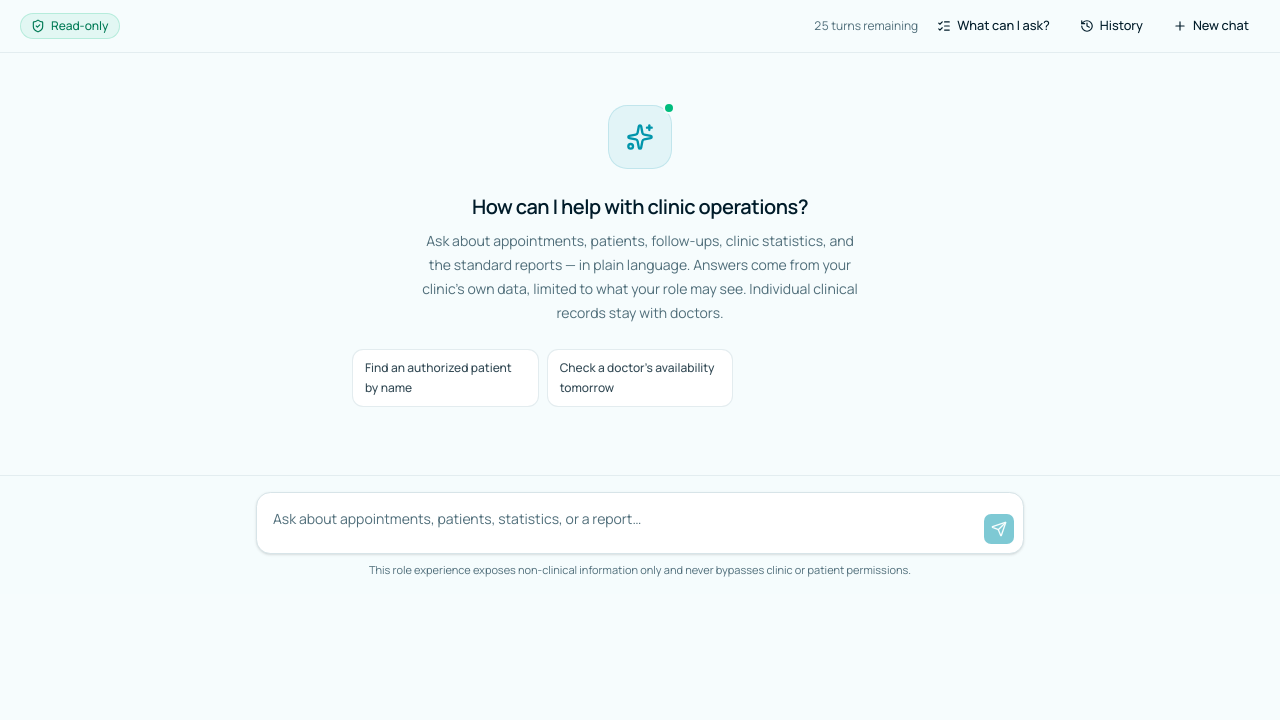
Test: P4.7 — capability panel component and accessibility › opens from the labelled toggle, groups localized items, closes, and restores focus
The image size is (1280, 720).
Click the button "What can I ask?".
click(994, 26)  # box [926,12,1061,40]
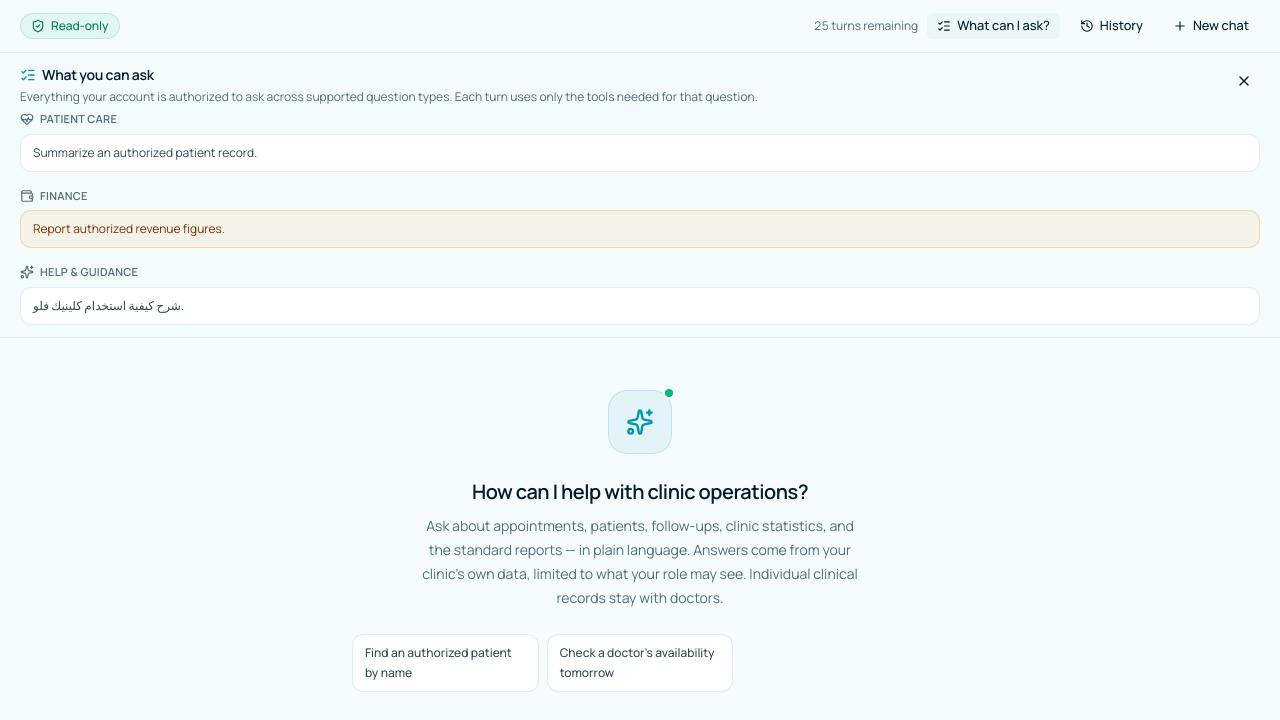
Check: the heading "What you can ask" is shown, box [20,65,154,84]
Check: the heading "Patient care" is shown, box [20,111,117,126]
Check: the heading "Finance" is shown, box [20,188,88,203]
Click the button named "Close".
click(1244, 81)  # box [1228,65,1260,97]
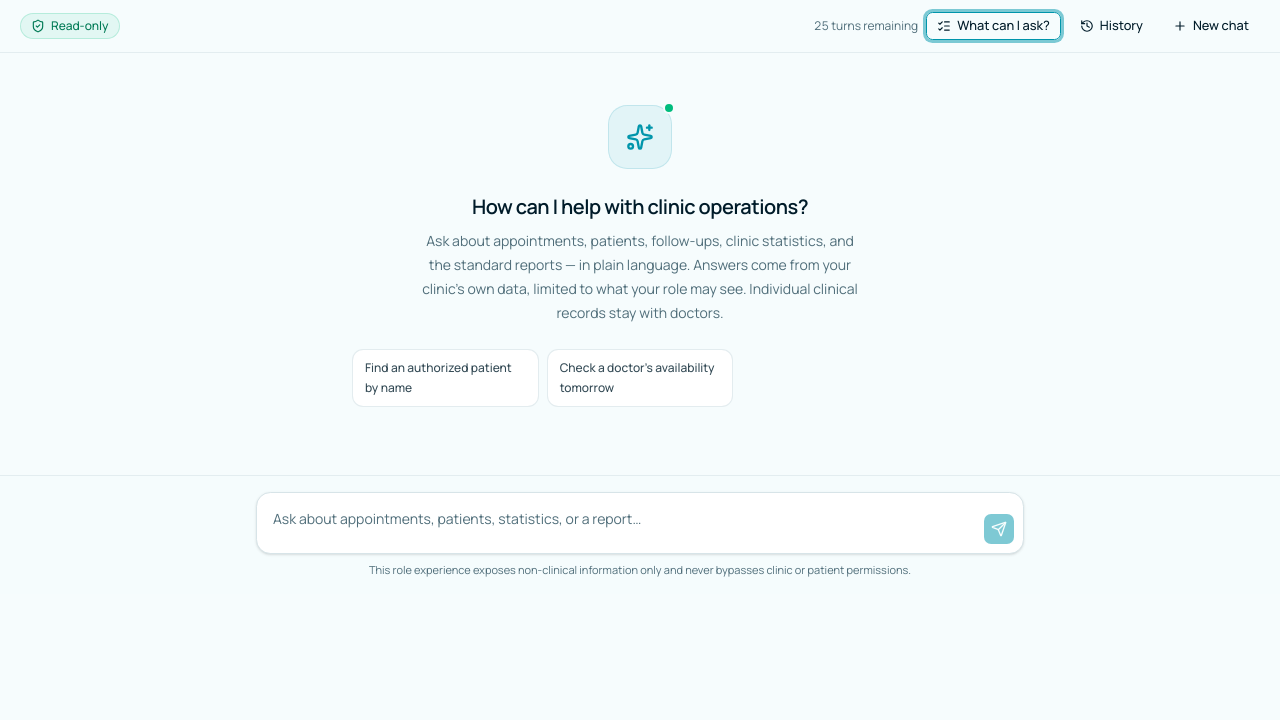
Check: the heading "What you can ask" is gone
